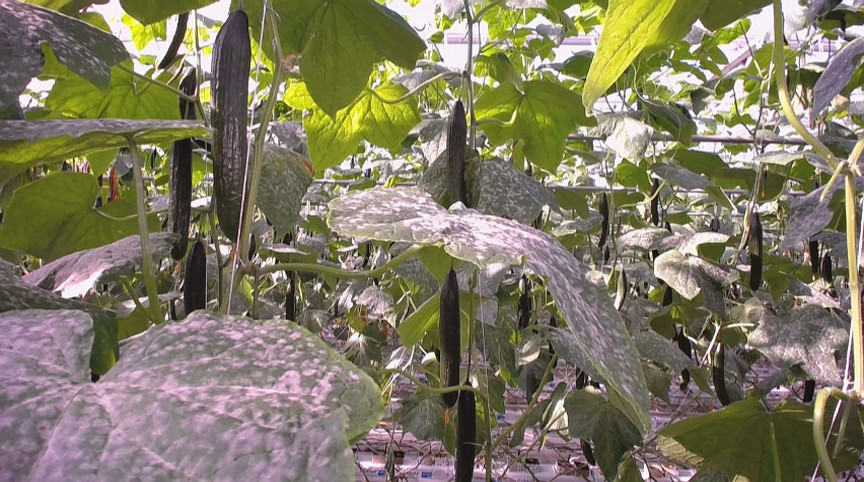cucumber: (210, 10, 254, 243), (169, 136, 194, 260), (440, 269, 459, 409), (447, 100, 468, 211), (183, 242, 211, 319), (456, 382, 476, 482), (713, 344, 731, 407), (749, 213, 763, 291)
